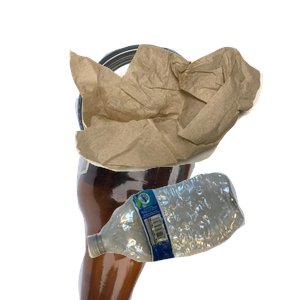glass: (60, 120, 300, 300)
metal: (73, 42, 277, 212)
plastic: (85, 170, 300, 300)
trash: (67, 42, 300, 206)
